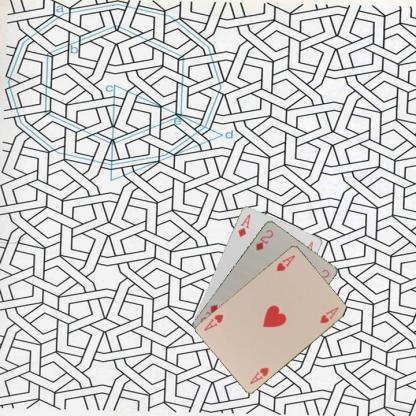2d: (253, 226, 275, 251)
Ad: (235, 211, 251, 238)
Ah: (246, 364, 270, 386), (274, 252, 296, 273)
